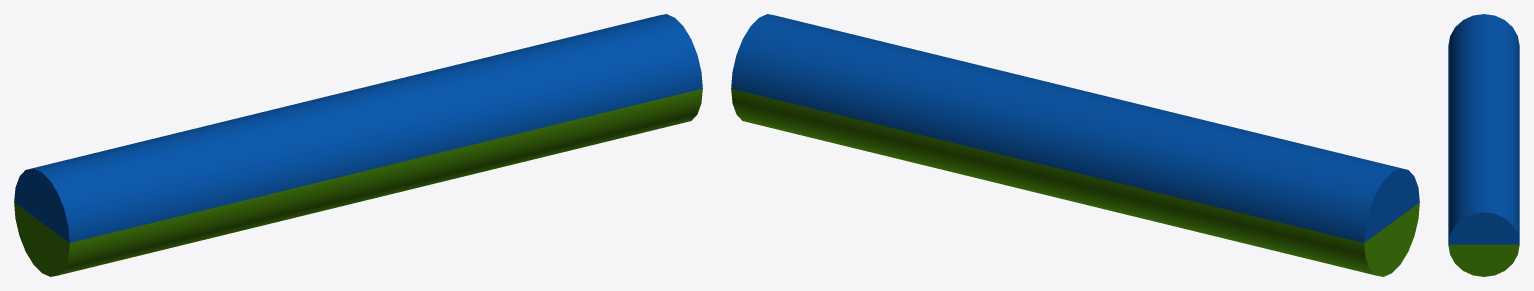
The model's file is Duck Obstacle 2.fbx.
3 views of the same model, side by side, from view 1: azimuth 30°, elevation 25°; view 2: azimuth 150°, elevation 25°; view 3: azimuth 270°, elevation 25° (orthographic). The views are drawn at different scales.
Parts seen in each view (by area): view 1: Duck_2; view 2: Duck_2; view 3: Duck_2.
Boxes of the visible parts, x1,y1,x2,y2 form: Duck_2: (14, 14, 702, 276); Duck_2: (731, 14, 1419, 276); Duck_2: (1448, 14, 1519, 276).
Bounding box in the file's own units: 57.46 × 8.75 × 8.75.
